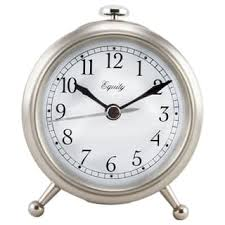alarm_clock: (18, 5, 211, 218)
